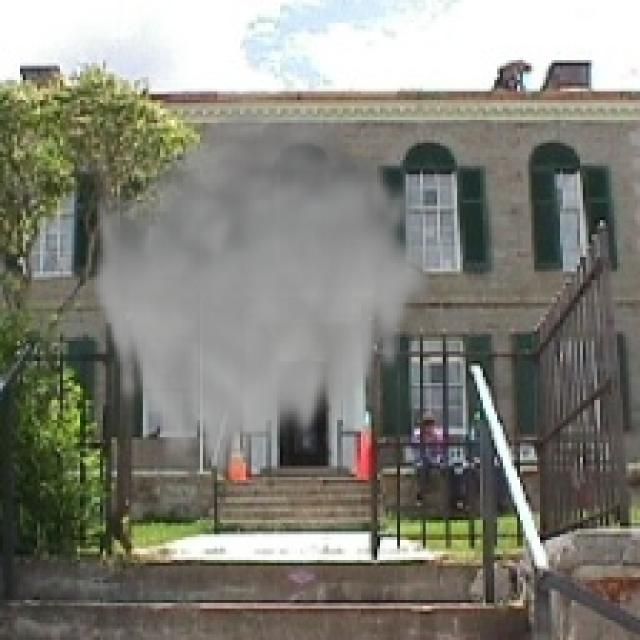smoke: (89, 100, 437, 497)
